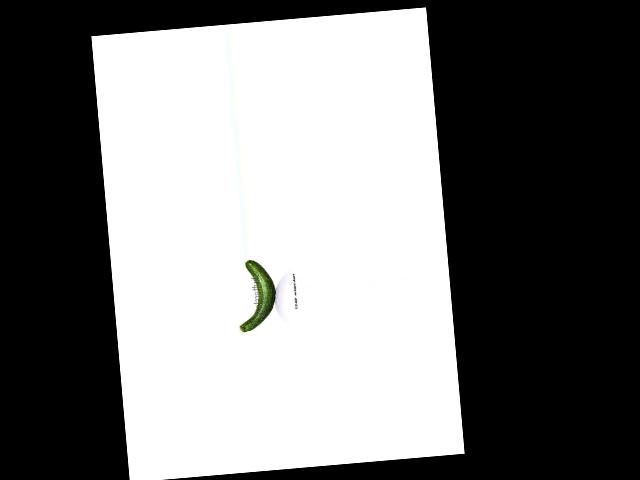cucumber: (234, 258, 278, 332)
